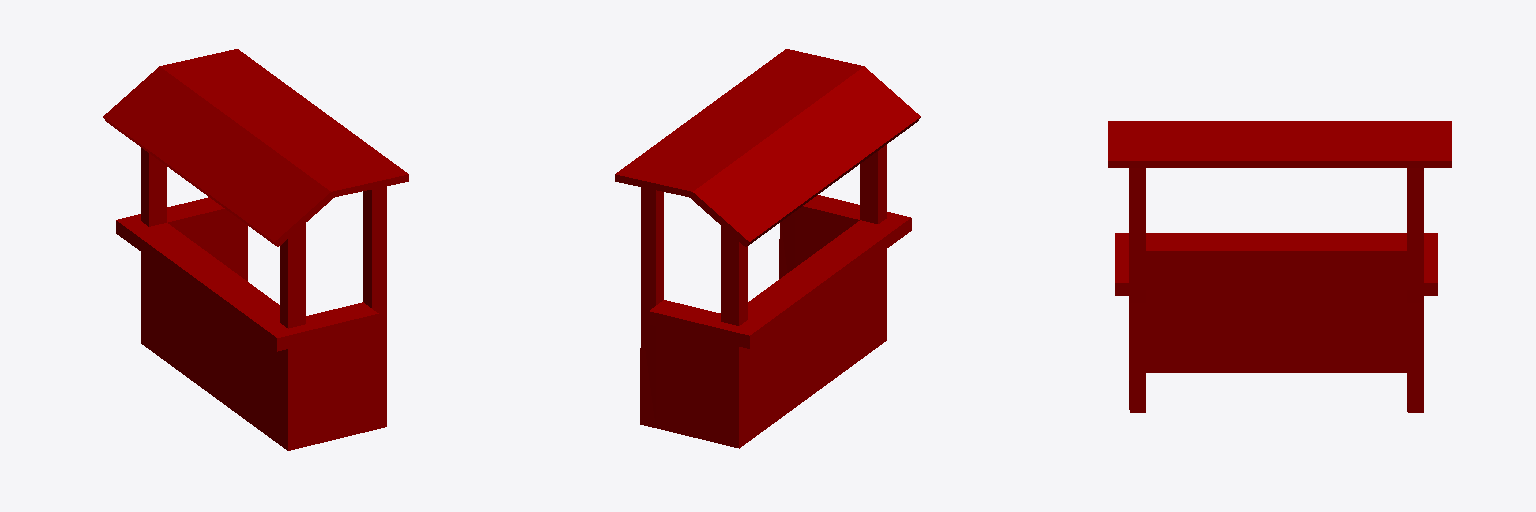
The model's file is barraquinha.obj.
The picture shows the model from 3 angles: view 1: azimuth 30°, elevation 25°; view 2: azimuth 150°, elevation 25°; view 3: azimuth 270°, elevation 25°; orthographic projection.
Visible parts, largest first — view 1: pCube28.001; view 2: pCube28.001; view 3: pCube28.001.
Part boxes in pixels (x1,y1,x2,y2): pCube28.001: (103, 49, 408, 450); pCube28.001: (615, 49, 920, 448); pCube28.001: (1108, 121, 1451, 412).
Bounding box in the file's own units: 0.266 × 0.4887 × 0.587.